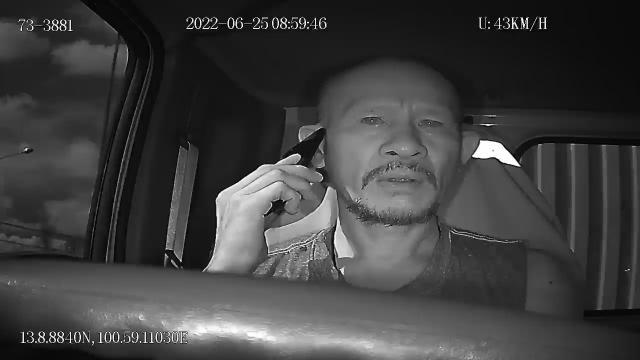PhoneUse: (266, 126, 328, 216)
SafeDriving: (408, 107, 451, 136), (352, 104, 395, 133)
